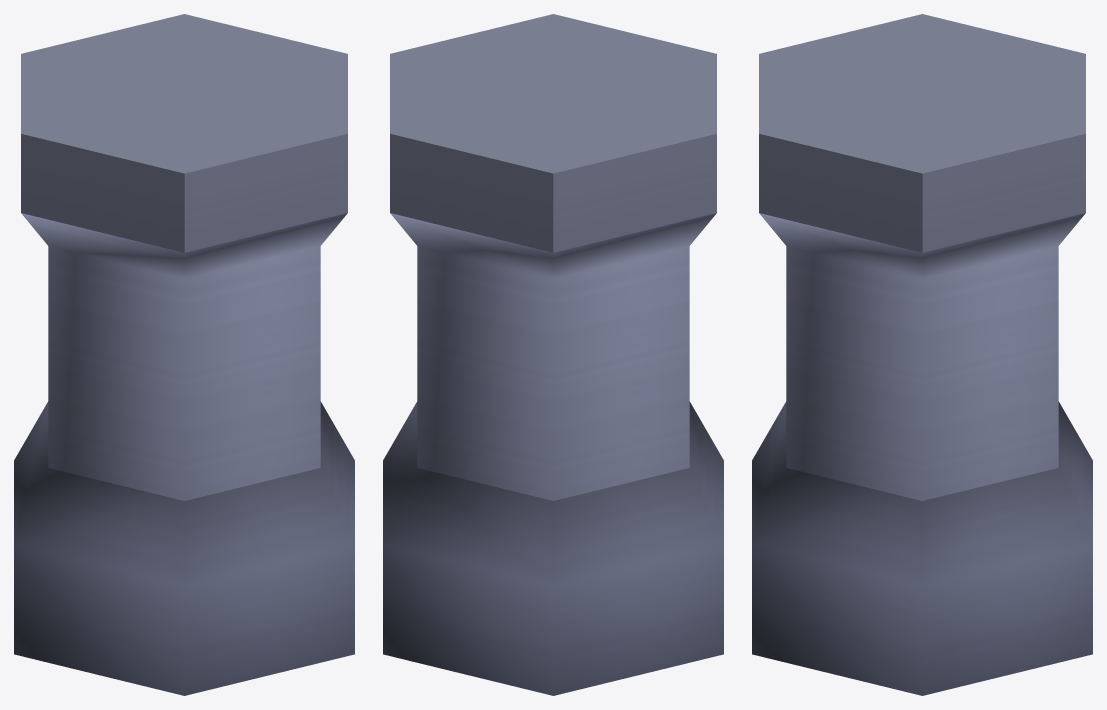
Rendered from tower-hexagon-base.fbx.
The picture shows the model from 3 angles, left to right: view 1: azimuth 30°, elevation 25°; view 2: azimuth 150°, elevation 25°; view 3: azimuth 270°, elevation 25°; orthographic projection.
Visible parts, largest first — view 1: tower-hexagon-base; view 2: tower-hexagon-base; view 3: tower-hexagon-base.
Boxes of the visible parts, left/top/right/bottom form: tower-hexagon-base: left=14, top=14, right=354, bottom=695; tower-hexagon-base: left=383, top=14, right=723, bottom=695; tower-hexagon-base: left=752, top=14, right=1092, bottom=695.
Size of the model in its own units: 0.9 by 0.7794 by 1.31.
